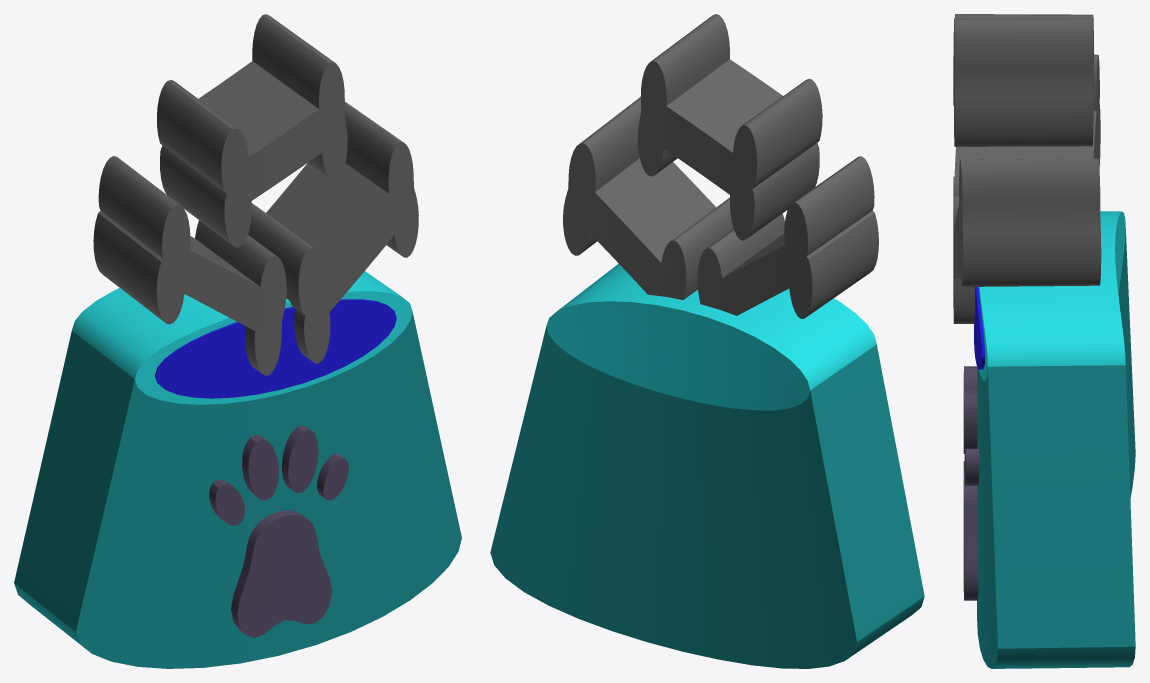
The model's file is Pets_Dish_Inner.fbx.
The picture shows the model from 3 angles, left to right: view 1: azimuth 30°, elevation 25°; view 2: azimuth 150°, elevation 25°; view 3: azimuth 270°, elevation 25°; orthographic projection. The views are drawn at different scales.
Visible parts, largest first — view 1: Pets_Dish_Inner; view 2: Pets_Dish_Inner; view 3: Pets_Dish_Inner.
Part boxes in pixels (box(x1,y1,x2,y2)): Pets_Dish_Inner: box(14, 14, 461, 668); Pets_Dish_Inner: box(490, 14, 924, 668); Pets_Dish_Inner: box(953, 14, 1135, 668).
Bounding box in the file's own units: 23.31 × 34.1 × 9.11.
